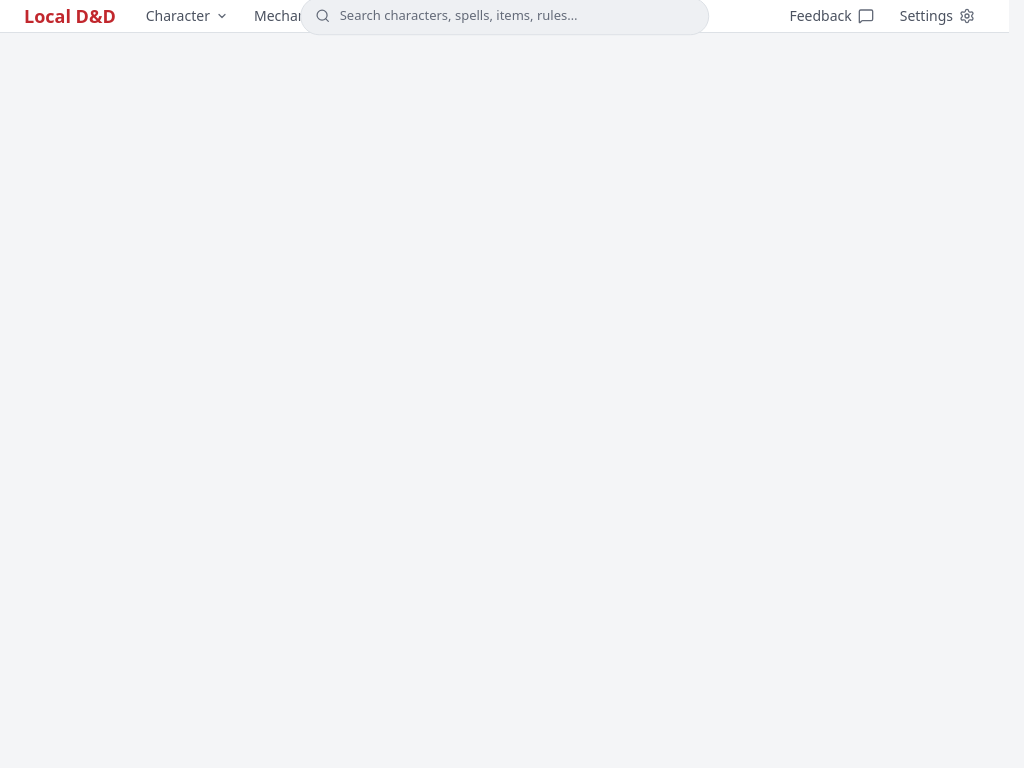
Test: TopBar › focusing the search closes the Character menu
This screenshot has width=1024, height=768.
Click the button "Character": (187, 16) [136,0,238,32]
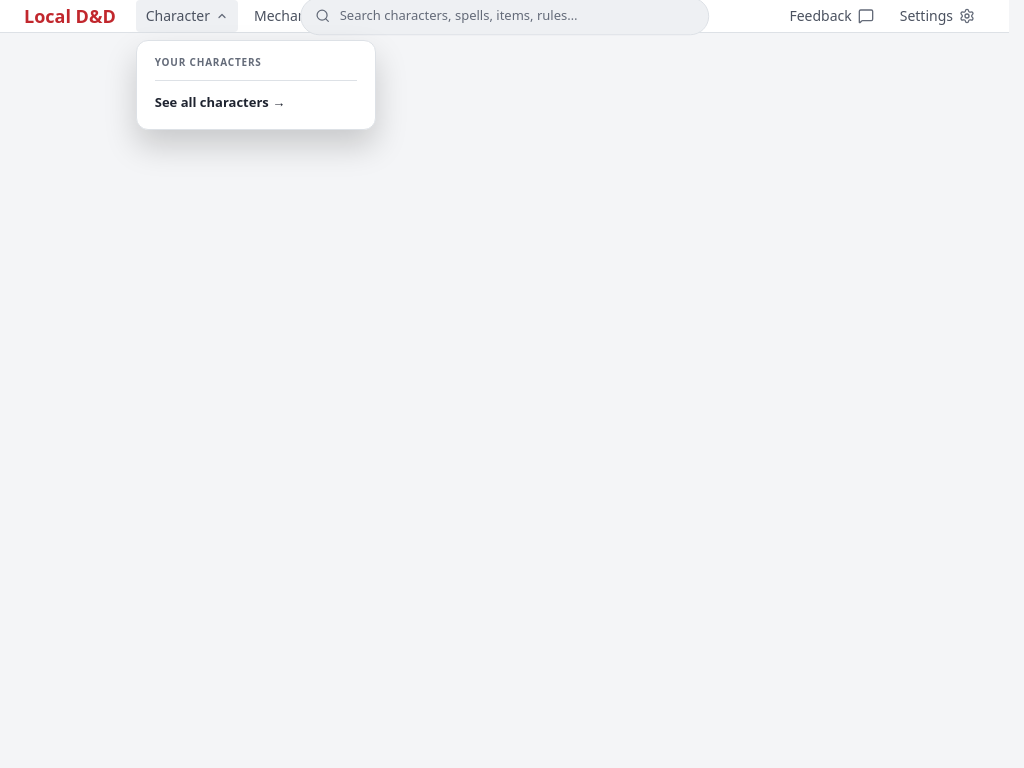
Focus the dropdown: (517, 16) [340,6,694,26]
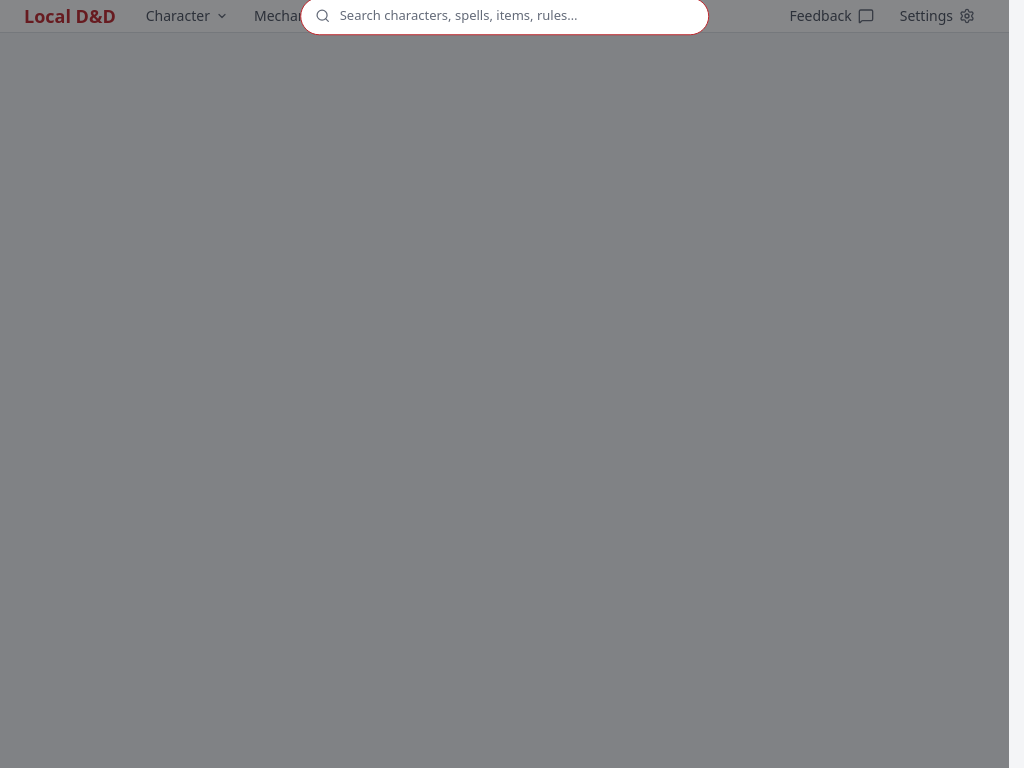
Expected: the button "Character" is collapsed, [136,0,238,32]
